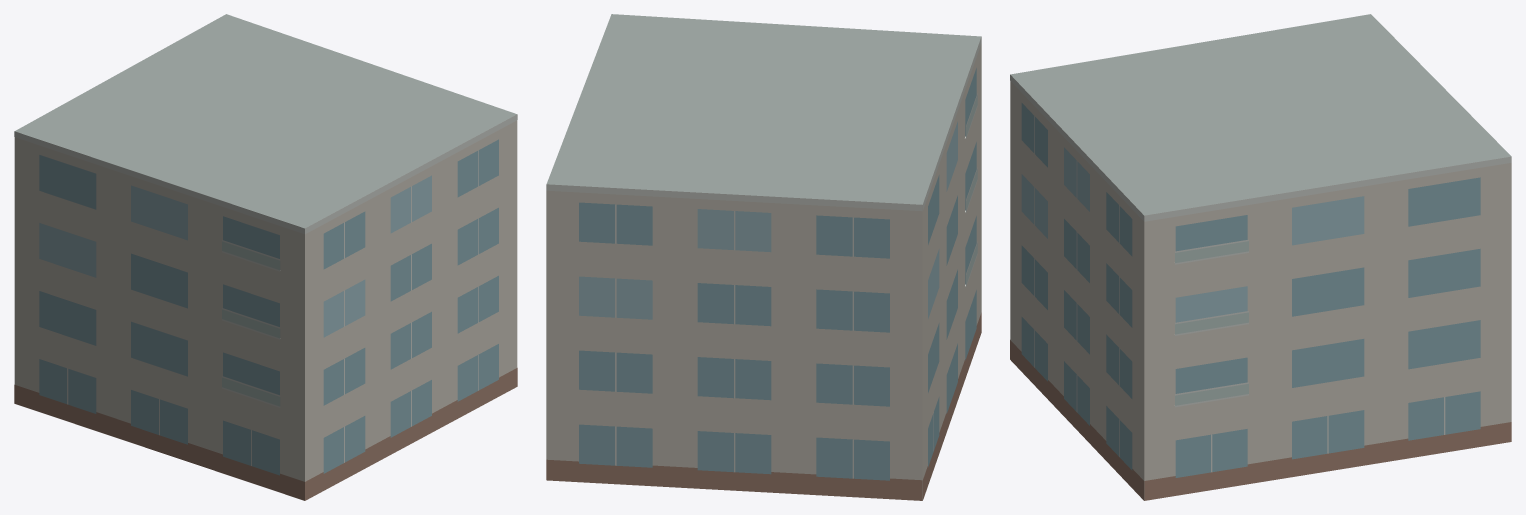
Rendered from survey-upis-32961431.glb.
3 views of the same model, side by side, from view 1: azimuth 30°, elevation 25°; view 2: azimuth 150°, elevation 25°; view 3: azimuth 270°, elevation 25° (orthographic). The views are drawn at different scales.
Parts seen in each view (by area): view 1: survey-upis-32961431.tmp; view 2: survey-upis-32961431.tmp; view 3: survey-upis-32961431.tmp.
Boxes of the visible parts, bbox=[...] form: survey-upis-32961431.tmp: bbox=[14, 14, 517, 500]; survey-upis-32961431.tmp: bbox=[546, 14, 981, 500]; survey-upis-32961431.tmp: bbox=[1010, 14, 1511, 500].
Size of the model in its own units: 17.14 by 11.3 by 18.02.
